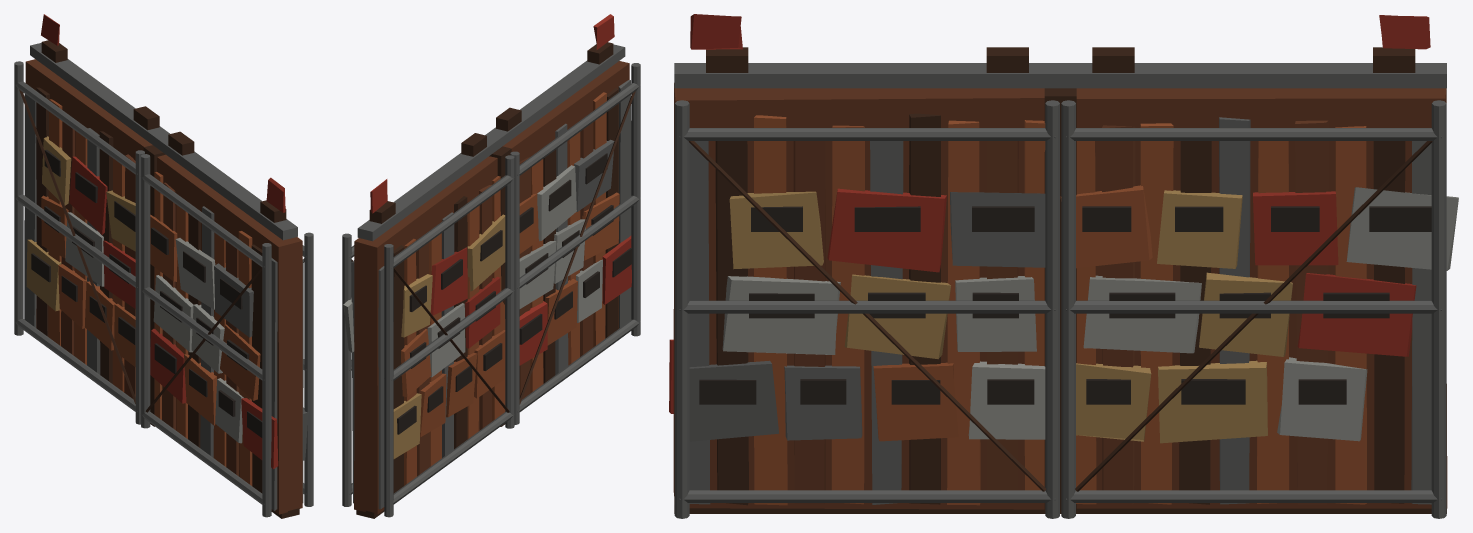
File: fort_scrap_shut.glb
The picture shows the model from 3 angles, left to right: view 1: azimuth 30°, elevation 25°; view 2: azimuth 150°, elevation 25°; view 3: azimuth 270°, elevation 25°; orthographic projection. The views are drawn at different scales.
Visible parts, largest first — view 1: fort_scrap_shut; view 2: fort_scrap_shut; view 3: fort_scrap_shut.
Part boxes in pixels (x1=…): fort_scrap_shut: x1=14, y1=14, x2=313, y2=518; fort_scrap_shut: x1=342, y1=14, x2=640, y2=518; fort_scrap_shut: x1=669, y1=14, x2=1458, y2=518.
Size of the model in its own units: 1.68 by 10.3 by 14.92.
